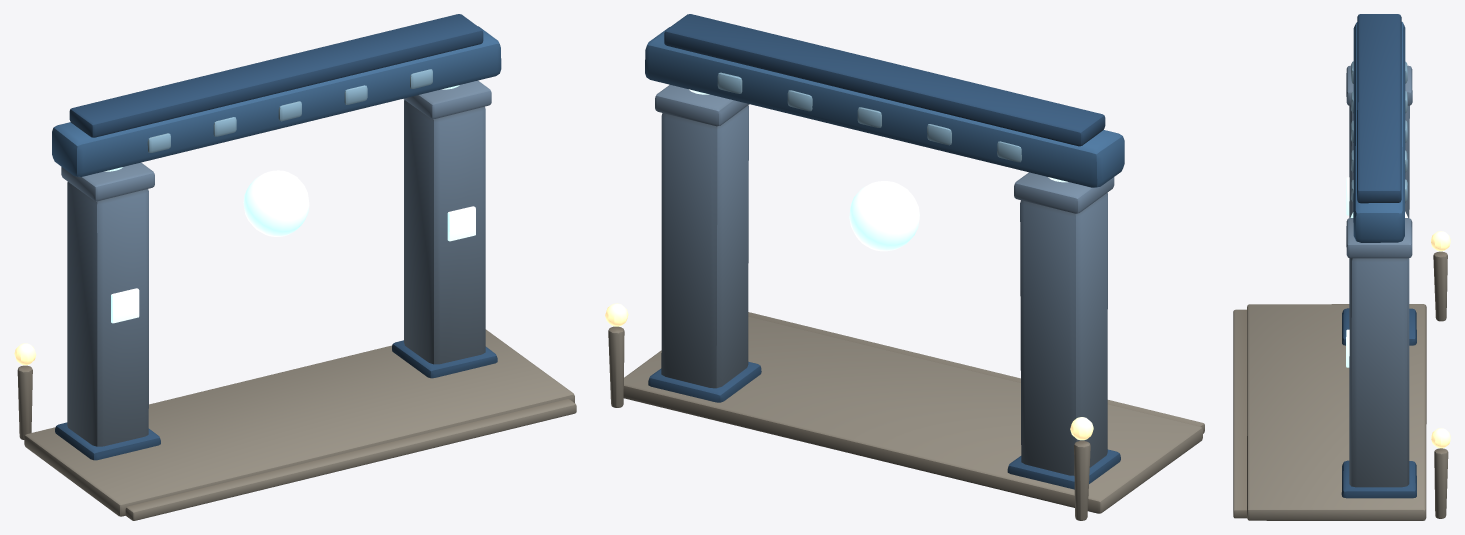
3 views of the same model, side by side, from view 1: azimuth 30°, elevation 25°; view 2: azimuth 150°, elevation 25°; view 3: azimuth 270°, elevation 25° (orthographic). The views are drawn at different scales.
Parts seen in each view (by area): view 1: gate_06007246; view 2: gate_06007246; view 3: gate_06007246.
Part boxes in pixels (x1=…): gate_06007246: x1=14, y1=14, x2=576, y2=520; gate_06007246: x1=605, y1=14, x2=1204, y2=520; gate_06007246: x1=1233, y1=14, x2=1450, y2=520.
Size of the model in its own units: 5.72 by 4.1 by 2.55.
